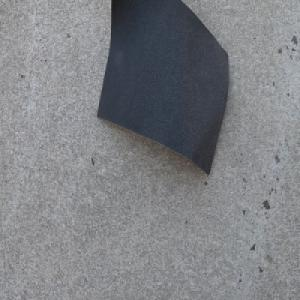PaintChip: (95, 0, 229, 176)
